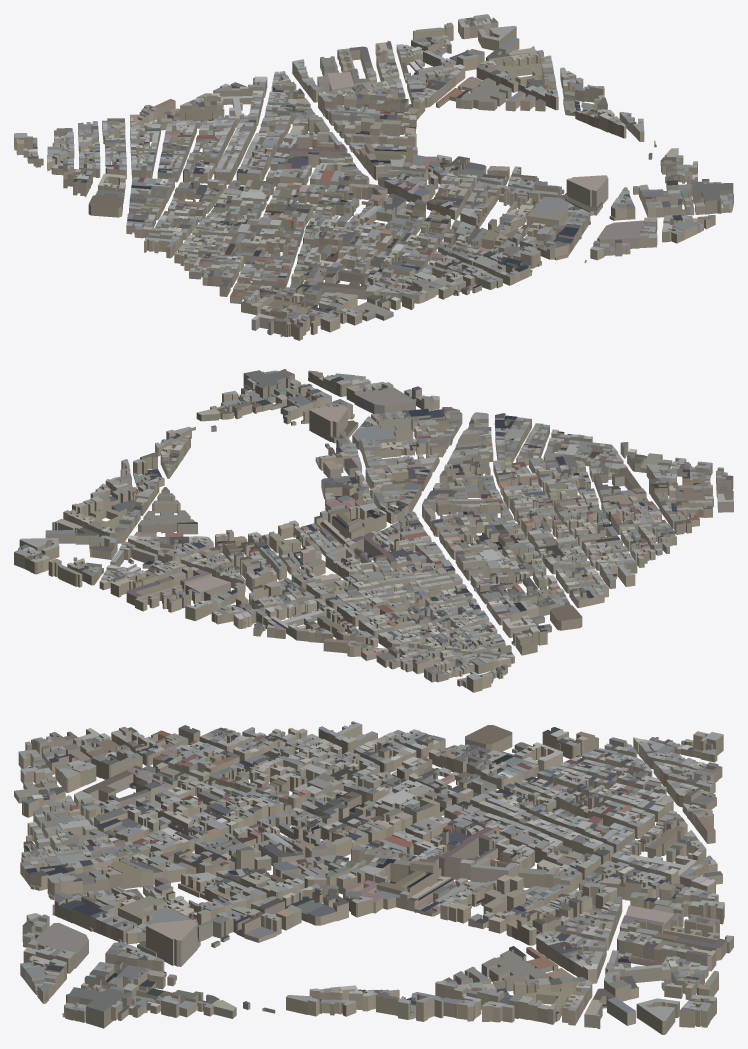
The picture shows the model from 3 angles, top to bottom: view 1: azimuth 30°, elevation 25°; view 2: azimuth 150°, elevation 25°; view 3: azimuth 270°, elevation 25°; orthographic projection. The views are drawn at different scales.
Visible parts, largest first — view 1: tuile; view 2: tuile; view 3: tuile.
Boxes of the visible parts, x1=… form: tuile: x1=14, y1=14, x2=733, y2=340; tuile: x1=14, y1=369, x2=733, y2=692; tuile: x1=14, y1=721, x2=733, y2=1034.
Bounding box in the file's own units: 1052 × 71.64 × 1045.
